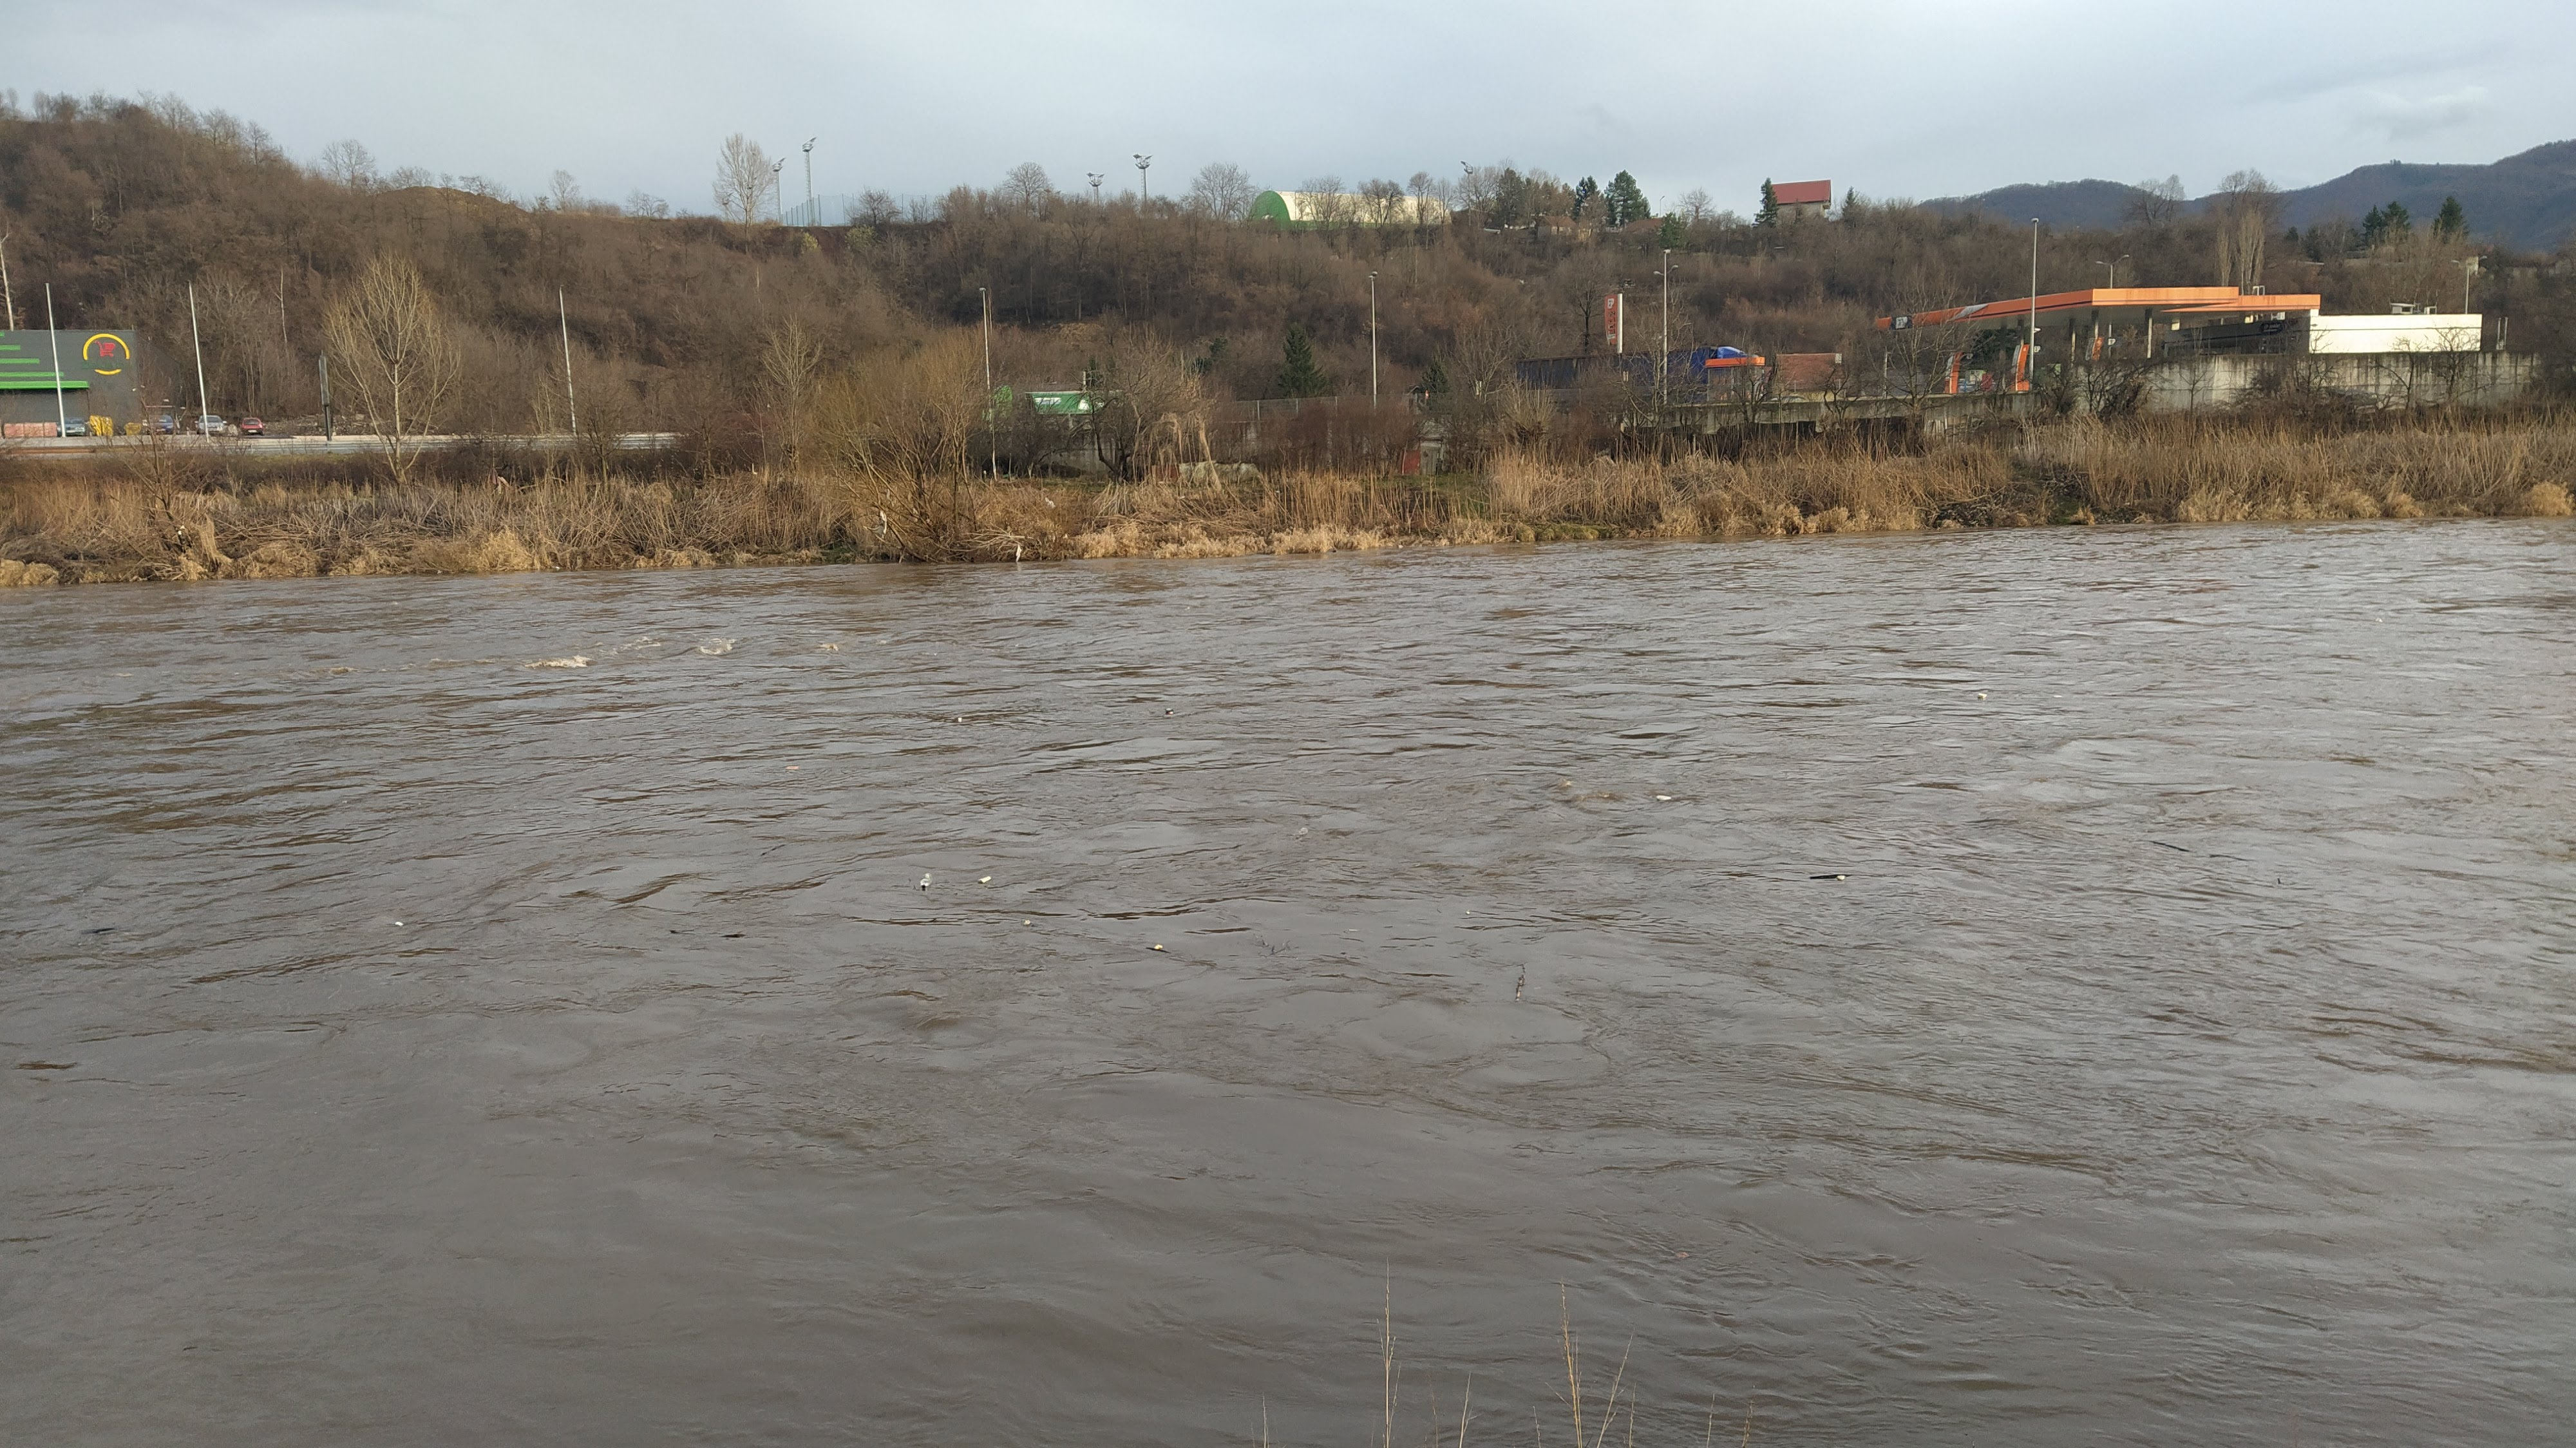Plastic Bottle: (920, 873, 932, 889), (977, 876, 993, 883), (1297, 827, 1307, 834), (1656, 795, 1670, 800), (1164, 708, 1173, 713), (1976, 694, 1987, 697), (2374, 618, 2381, 621)
